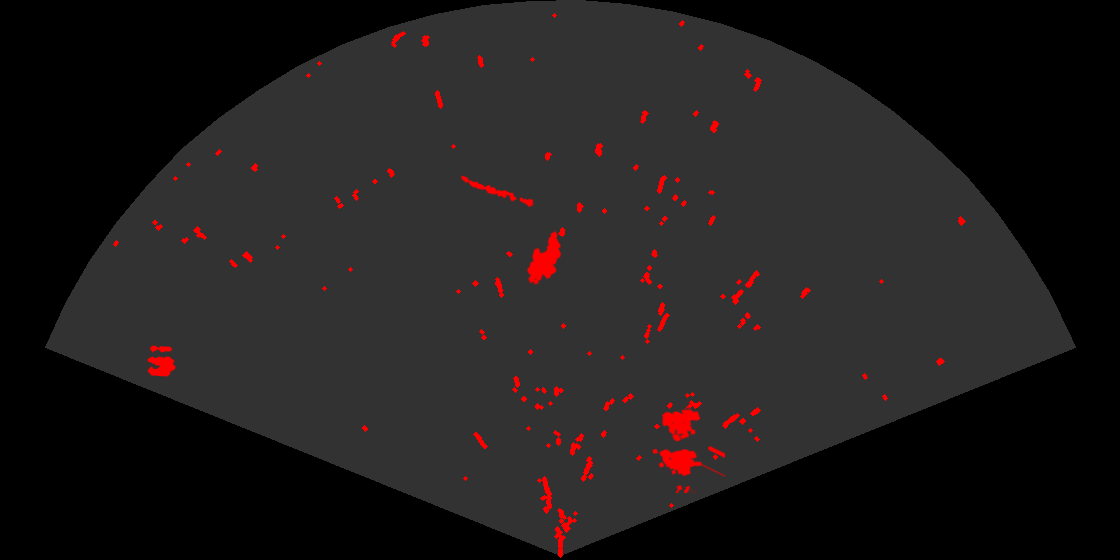AUV: (525, 229, 563, 287)
ball: (146, 344, 177, 378)
cage: (650, 407, 725, 493)
chain: (459, 174, 536, 209)
